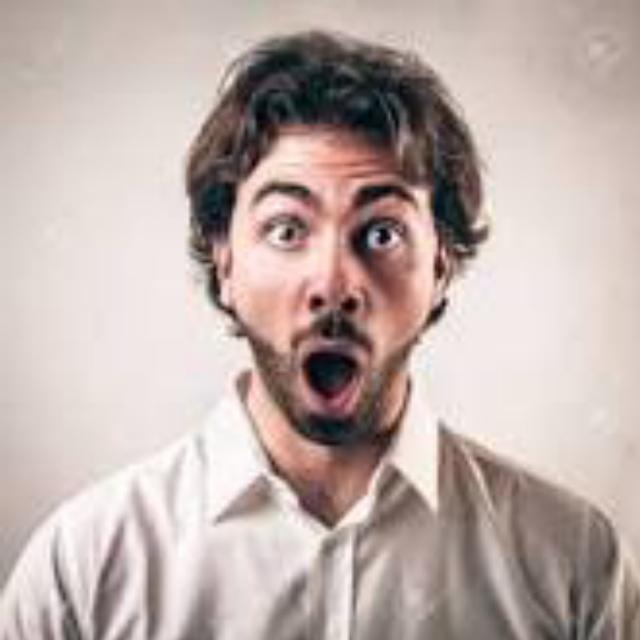Natural: (214, 94, 465, 482)
